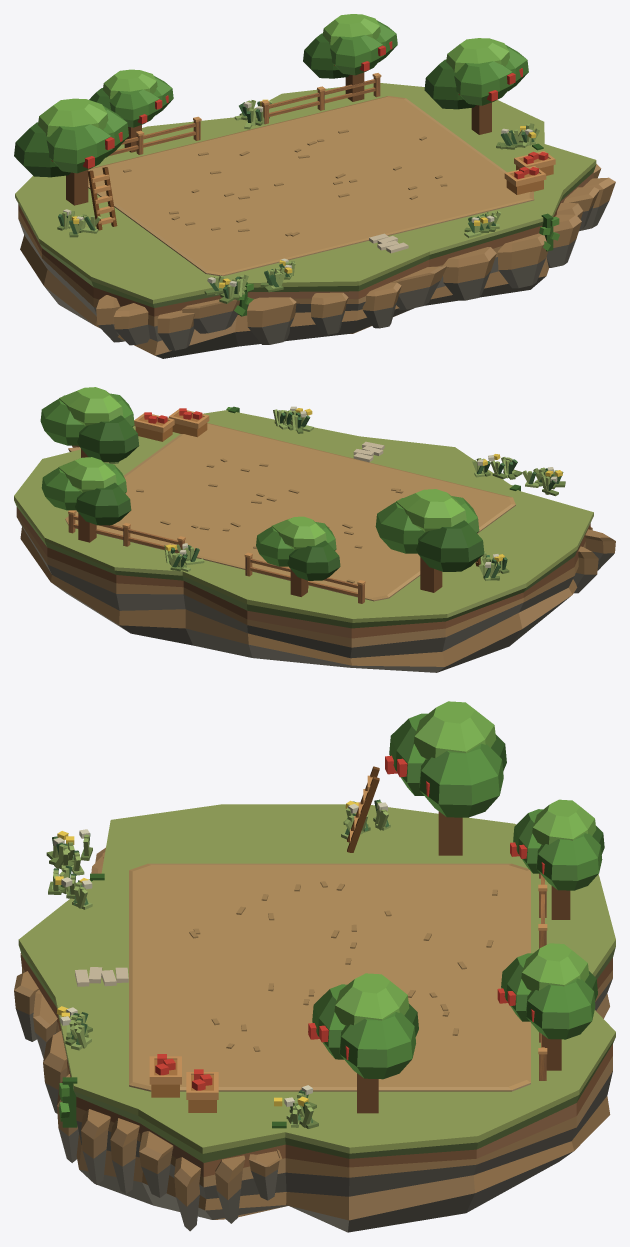
The model's file is island-orchard.glb.
3 views of the same model, one above another, from view 1: azimuth 30°, elevation 25°; view 2: azimuth 150°, elevation 25°; view 3: azimuth 270°, elevation 25° (orthographic). The views are drawn at different scales.
Parts seen in each view (by area): view 1: Yard, Island, Crown.002, Weathered outcrop.006, Weathered outcrop.007, Weathered outcrop.011, Crown.014, Crown.003, Crown.010, Crown, Weathered outcrop.008, Crown.015 (+20 smaller); view 2: Island, Yard, Crown, Crown.012, Crown.003, Crown.008, Crown.015, Crown.001, Crown.004, Crown.011, Crown.013, Crown.007 (+7 smaller); view 3: Island, Yard, Crown.001, Crown.013, Crown.003, Crown.009, Crown.005, Crown.015, Crown.011, Crown.007, Weathered outcrop.003, Weathered outcrop.005 (+13 smaller).
Boxes of the visible parts, <box> form: Yard: <box>88,96,534,276</box>; Island: <box>15,83,596,358</box>; Crown.002: <box>46,124,112,173</box>; Weathered outcrop.006: <box>497,233,547,288</box>; Weathered outcrop.007: <box>443,247,496,300</box>; Weathered outcrop.011: <box>247,297,296,344</box>; Crown.014: <box>454,61,513,105</box>; Crown.003: <box>38,98,108,136</box>; Crown.010: <box>330,35,383,75</box>; Crown: <box>14,122,70,177</box>; Weathered outcrop.008: <box>392,266,446,310</box>; Crown.015: <box>446,38,509,72</box>; Island: <box>14,410,593,672</box>; Yard: <box>65,423,515,601</box>; Crown: <box>416,520,484,571</box>; Crown.012: <box>77,415,139,462</box>; Crown.003: <box>396,489,466,532</box>; Crown.008: <box>75,482,131,525</box>; Crown.015: <box>59,387,123,426</box>; Crown.001: <box>375,498,424,553</box>; Crown.004: <box>287,540,340,580</box>; Crown.011: <box>58,457,116,492</box>; Crown.013: <box>40,395,85,445</box>; Crown.007: <box>271,516,326,549</box>; Island: <box>18,804,615,1232</box>; Yard: <box>129,863,530,1091</box>; Crown.001: <box>419,743,503,817</box>; Crown.013: <box>339,1012,415,1079</box>; Crown.003: <box>413,701,496,759</box>; Crown.009: <box>526,978,595,1039</box>; Crown.005: <box>536,833,602,890</box>; Crown.015: <box>334,973,409,1026</box>; Crown.011: <box>521,943,589,991</box>; Crown.007: <box>532,799,596,845</box>; Weathered outcrop.003: <box>139,1131,173,1197</box>; Weathered outcrop.005: <box>81,1109,110,1184</box>.
Bounding box in the file's own units: 9.18 × 3.24 × 6.51.
53 materials, 1 textured.
